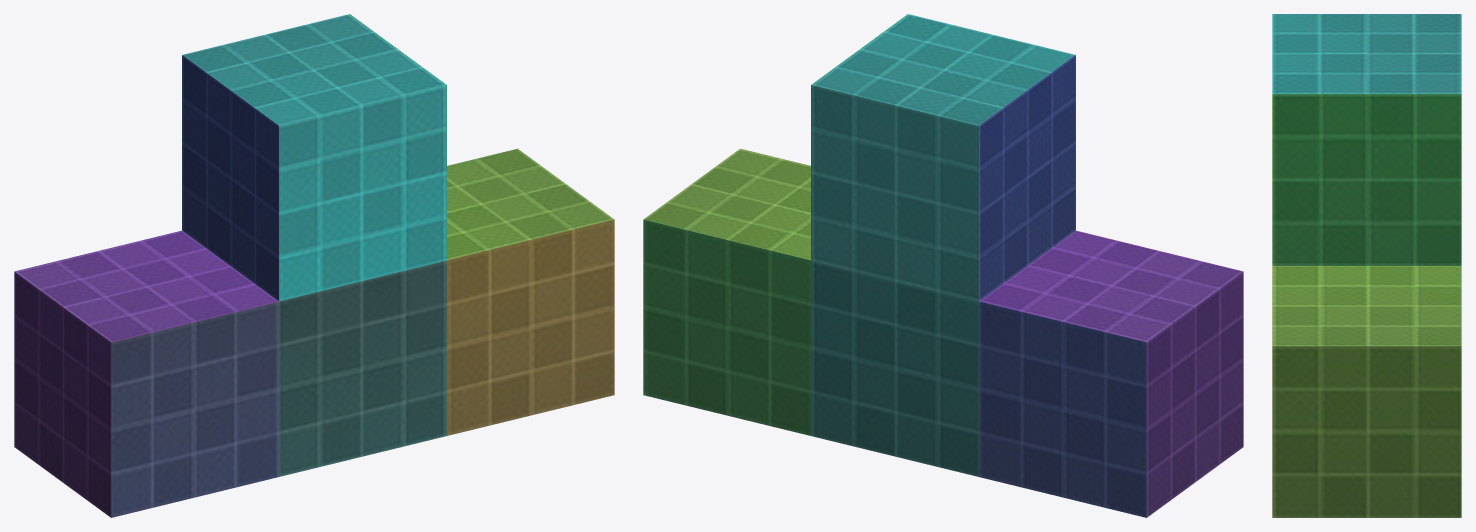
Rendered from T-Block.obj.
The picture shows the model from 3 angles, left to right: view 1: azimuth 30°, elevation 25°; view 2: azimuth 150°, elevation 25°; view 3: azimuth 270°, elevation 25°; orthographic projection. The views are drawn at different scales.
Parts seen in each view (by area): view 1: Cube; view 2: Cube; view 3: Cube.
Boxes of the visible parts, <box> form: Cube: <box>14,14,614,517</box>; Cube: <box>643,14,1243,517</box>; Cube: <box>1272,14,1461,517</box>.
Size of the model in its own units: 1.5 by 1 by 0.5.
